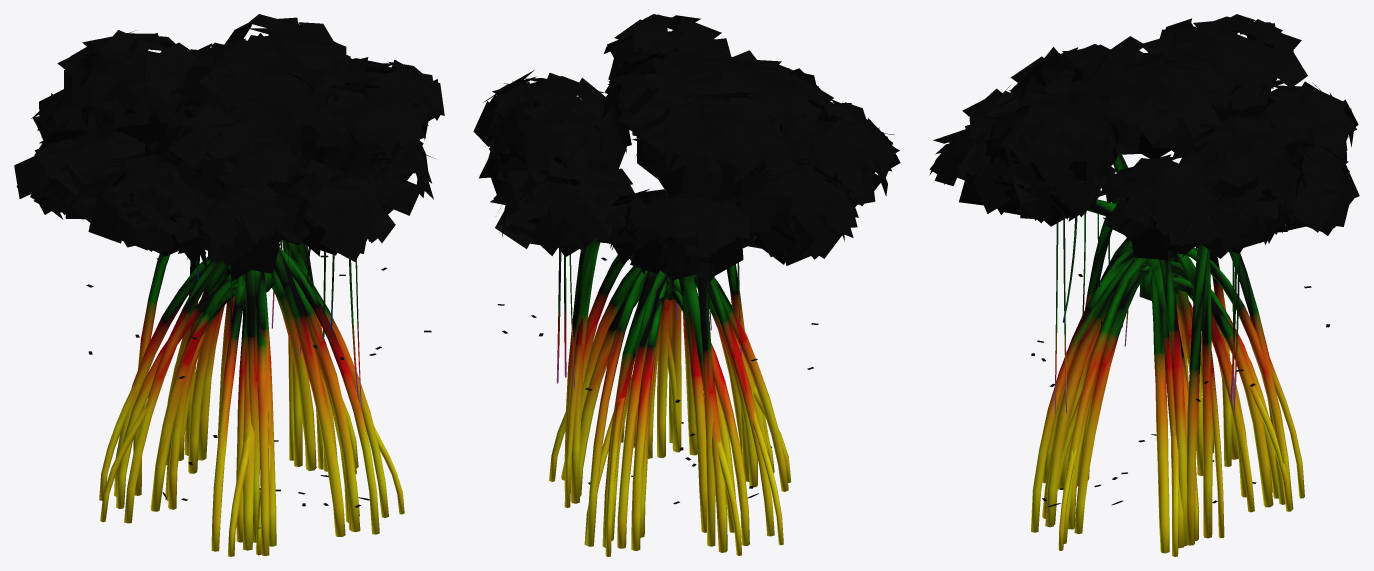
Rendered from mangrove_c.glb.
3 views of the same model, side by side, from view 1: azimuth 30°, elevation 25°; view 2: azimuth 150°, elevation 25°; view 3: azimuth 270°, elevation 25° (orthographic). The views are drawn at different scales.
Visible parts, largest first — view 1: mangrove_c; view 2: mangrove_c; view 3: mangrove_c.
Part boxes in pixels (left/top/right/bottom): mangrove_c: left=14, top=14, right=444, bottom=556; mangrove_c: left=473, top=14, right=900, bottom=556; mangrove_c: left=929, top=14, right=1359, bottom=556.
Size of the model in its own units: 8.14 by 8.88 by 7.79.
